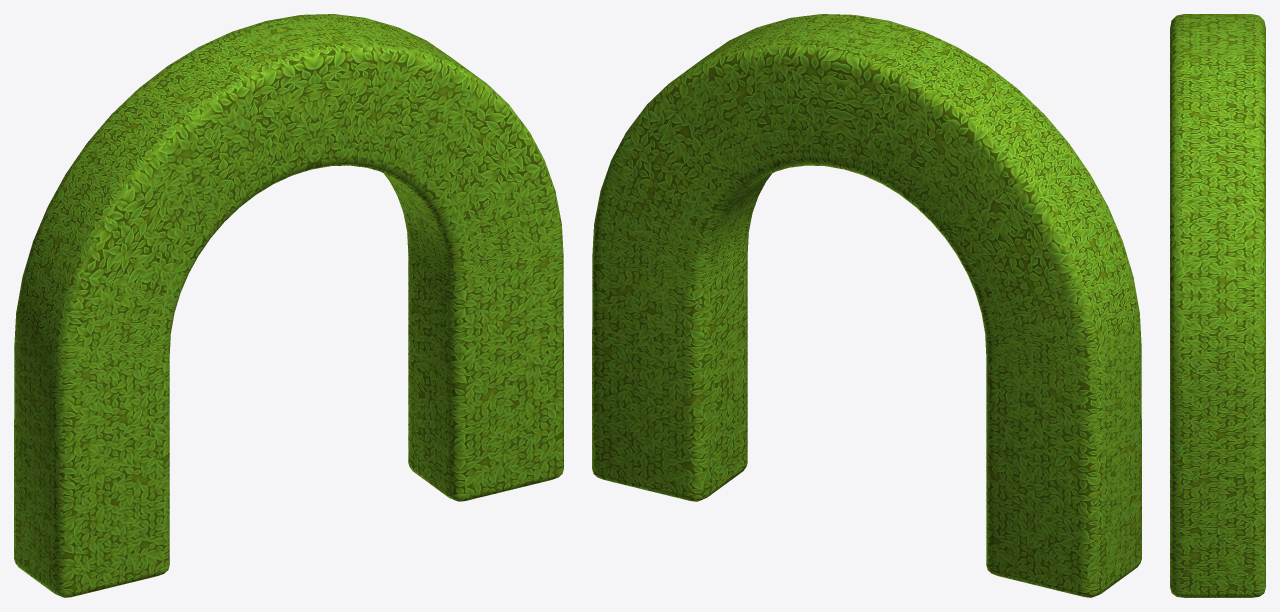
The model's file is Hedge01_6.FBX.
3 renders of one model, left to right at view 1: azimuth 30°, elevation 25°; view 2: azimuth 150°, elevation 25°; view 3: azimuth 270°, elevation 25°, orthographic. The views are drawn at different scales.
Parts seen in each view (by area): view 1: Hedge01_6; view 2: Hedge01_6; view 3: Hedge01_6.
Part boxes in pixels (<box>): Hedge01_6: <box>14,14,563,597</box>; Hedge01_6: <box>592,14,1141,597</box>; Hedge01_6: <box>1170,14,1265,597</box>.
Size of what is drawn, in the model's own units: 4.5 by 4.13 by 0.8.
